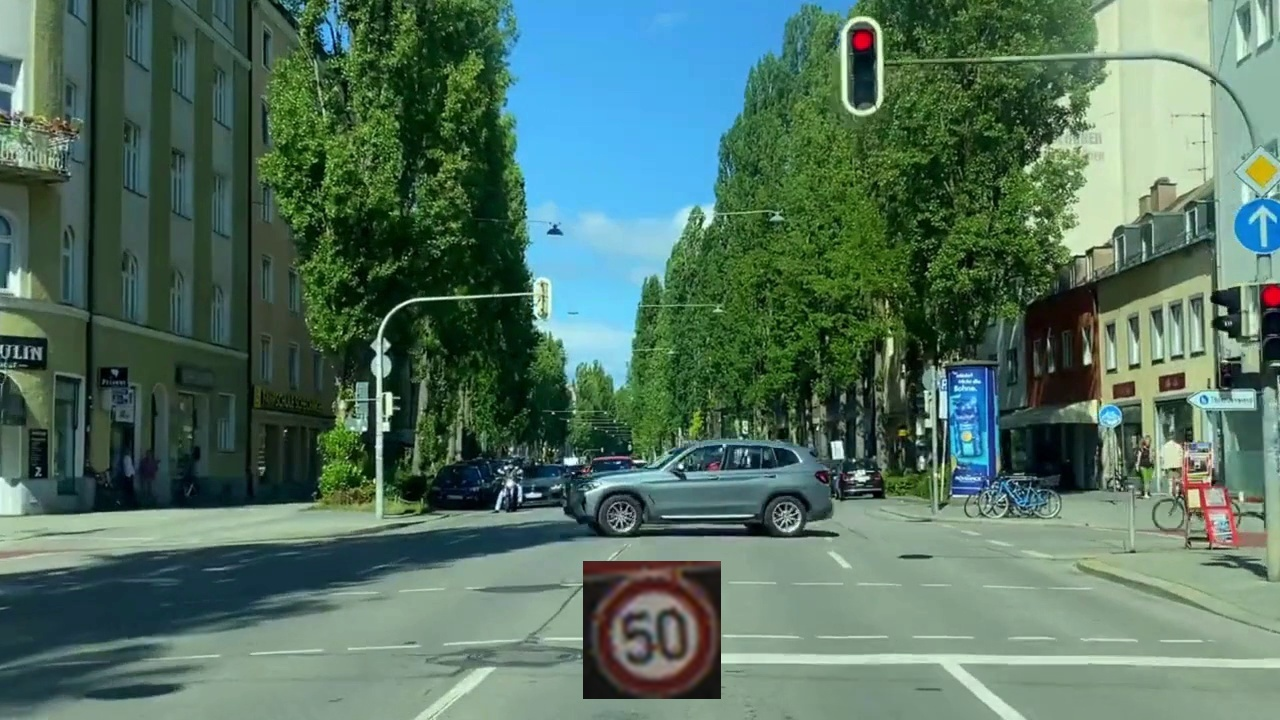Speed 50: (583, 561, 721, 699)
